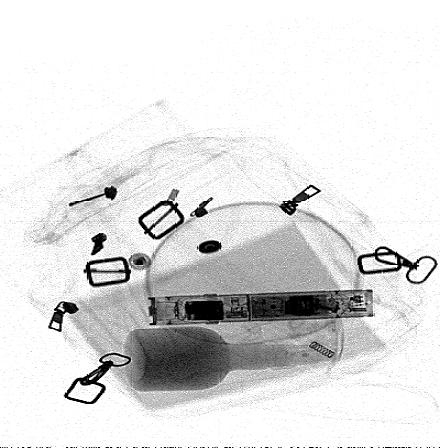Baton: (146, 288, 375, 324)
